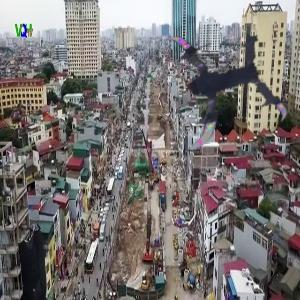drone: (147, 19, 281, 153)
